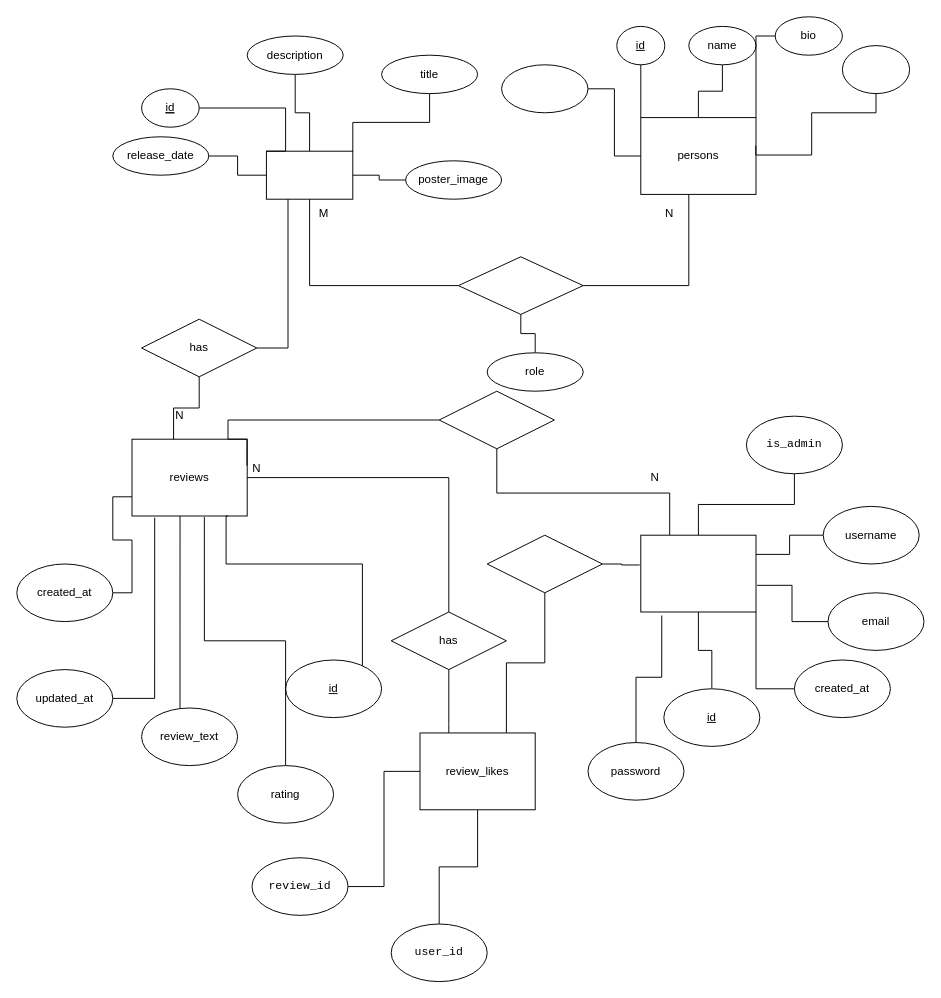
Some shapes in this 941 by 998 pixel diagram are drawn without their labels. Here are the shapes that lost their labels. From the top down, the centre of each, then its label:
the point at 544,88: profile_image
the point at 875,69: birth_date
the point at 309,174: movies
the point at 520,285: work on
the point at 496,419: authors
the point at 544,563: likes
the point at 698,573: users
